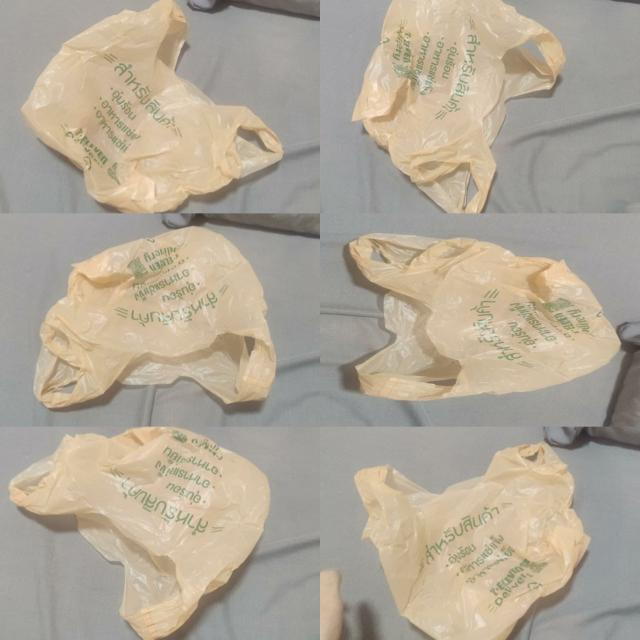Single-layer Plastic: (23, 0, 283, 212), (9, 428, 269, 640), (355, 442, 589, 640), (353, 0, 564, 212), (350, 234, 619, 400), (34, 228, 275, 408)
